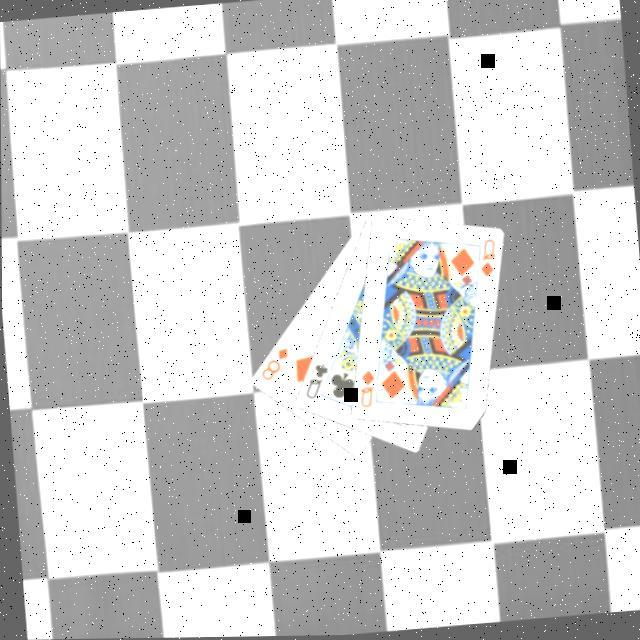8D: (255, 346, 293, 386)
QC: (299, 362, 332, 404)
QD: (475, 238, 500, 284), (354, 369, 380, 413)
